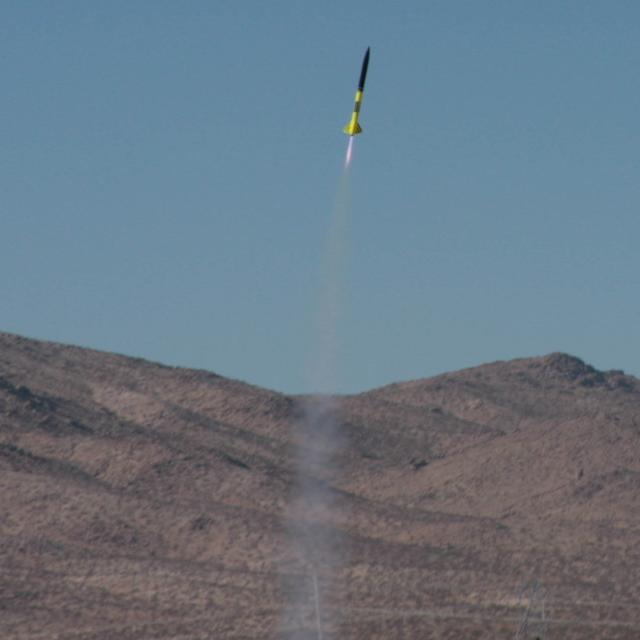Rocket: (342, 46, 371, 137)
